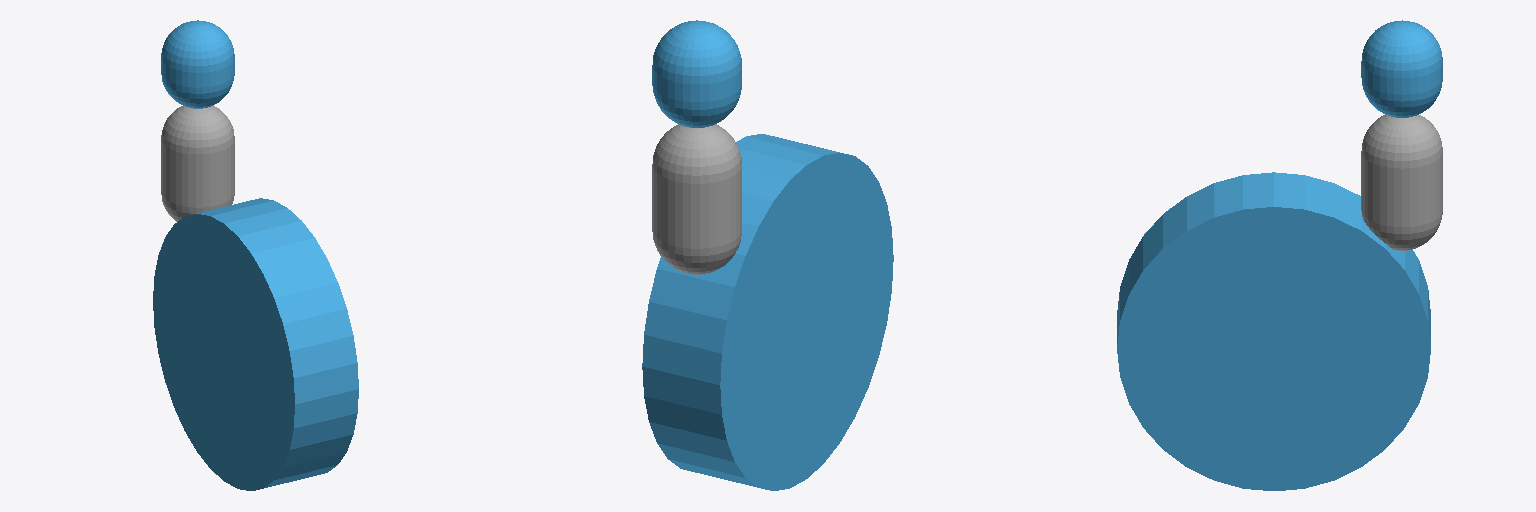
robot.urdf — DexterousHand:
<?xml version="1.0"?>
<robot name="DexterousHand">


    <link name="world"/>
    <joint name="world_to_palm" type="fixed">
        <parent link="world"/>
        <child link="palm"/>
        <origin xyz="0 0 0" rpy="0 0 0"/>
    </joint>
    <link name="palm">
        <inertial>
            <origin xyz="0 0 0.057" rpy="0 0 0"/>
            <mass value="0.30212892864"/>
            <inertia ixx="0.00049080844457568" ixy="0.0" ixz="0.0" iyy="0.00026746366246427523" iyz="0.0" izz="0.00026746366246427523"/>
        </inertial>
        <visual>
            <origin xyz="0 0 0.057" rpy="1.5708 0 1.5708"/>
            <geometry>
                <cylinder radius="0.057" length="0.0296"/>
            </geometry>
            <material name="default"/>
        </visual>
        <collision>
            <origin xyz="0 0 0.057" rpy="1.5708 0 1.5708"/>
            <geometry>
                <cylinder radius="0.057" length="0.0296"/>
            </geometry>
        </collision>
    </link>

    
    <joint name="thumb_joint1" type="revolute">
        <parent link="palm"/>
        <child link="thumb_base"/>
        <origin xyz="0.0 0.0 0.0" rpy="0.0 0.0 0.0"/>
        <axis xyz="1 0 0"/>
        <limit lower="0.0" upper="0.0" effort="1.0" velocity="1.0"/>
    </joint>

    <link name="thumb_base"></link>

    <joint name="thumb_joint2" type="revolute">
        <parent link="thumb_base"/>
        <child link="thumb_proximal"/>
        <origin xyz="0.0 0.0 0.0" rpy="0.0 0.0 0.0"/>
        <axis xyz="0 1 0"/>
        <limit lower="0.0" upper="0.0" effort="1.0" velocity="1.0"/>
    </joint>

    <link name="thumb_proximal">
    </link>

    <joint name="thumb_joint3" type="revolute">
        <parent link="thumb_proximal"/>
        <child link="thumb_knuckle"/>
        <origin xyz="0.0 0.0 0.0" rpy="0.0 0.0 0.0"/>
        <axis xyz="1 0 0"/>
        <limit lower="0.0" upper="0.0" effort="1.0" velocity="1.0"/>
    </joint>

    <link name="thumb_knuckle"></link>

    <joint name="thumb_joint4" type="revolute">
        <parent link="thumb_knuckle"/>
        <child link="thumb_middle"/>
        <origin xyz="0 0 0" rpy="0 0 0"/> 
        <axis xyz="0 1 0"/>
        <limit lower="0.0" upper="0.0" effort="1.0" velocity="1.0"/>
    </joint>

    <link name="thumb_middle">
    </link>

    <joint name="thumb_joint5" type="revolute">
        <parent link="thumb_middle"/>
        <child link="thumb_distal"/>
        <origin xyz="0 0 0" rpy="0 0 0"/> 
        <axis xyz="0 1 0"/>
        <limit lower="0.0" upper="0.0" effort="1.0" velocity="1.0"/>
    </joint>

    <link name="thumb_distal">
    </link>

    
    <joint name="index_joint1" type="revolute">
        <parent link="palm"/>
        <child link="index_proximal"/>
        <origin xyz="0.0 0.0465 0.091" rpy="0.0 0.0 0.0"/>
        <axis xyz="0 1 0"/>
        <limit lower="-0.314" upper="2.23" effort="1.0" velocity="1.0"/>
    </joint>

    <link name="index_proximal">
        <inertial>
            <origin xyz="0 0 0.02655" rpy="0 0 0"/>
            <mass value="0.036540024998400006"/>
            <inertia ixx="1.058665009272394e-05" ixy="0.0" ixz="0.0" 
            iyy="1.058665009272394e-05" iyz="0.0" izz="4.001863537824769e-06"/>
        </inertial>
        <visual>
            <origin xyz="0 0 0.02655" rpy="0 0 0"/>
            <geometry>
                <cylinder radius="0.0148" length="0.0235"/>
            </geometry>
            <material name="default"/>
        </visual>
        <visual>
            <origin xyz="0 0 0.0148" rpy="0 0 0"/>
            <geometry>
                <sphere radius="0.0148"/>
            </geometry>
            <material name="default"/>
        </visual>
        <visual>
            <origin xyz="0 0 0.0383" rpy="0 0 0"/>
            <geometry>
                <sphere radius="0.0148"/>
            </geometry>
            <material name="default"/>
        </visual>
        <collision>
            <origin xyz="0 0 0.02655" rpy="0 0 0"/>
            <geometry>
                <cylinder radius="0.0148" length="0.0235"/>
            </geometry>
        </collision>
        <collision>
            <origin xyz="0 0 0.0148" rpy="0 0 0"/>
            <geometry>
                <sphere radius="0.0148"/>
            </geometry>
        </collision>
        <collision>
            <origin xyz="0 0 0.0383" rpy="0 0 0"/>
            <geometry>
                <sphere radius="0.0148"/>
            </geometry>
        </collision>
    </link>

    <joint name="index_joint2" type="revolute">
        <parent link="index_proximal"/>
        <child link="index_dummy"/>
        <origin xyz="0.0 0.0 0.038" rpy="0.0 0.0 0.0"/>
        <axis xyz="1 0 0"/>
        <limit lower="-1.047" upper="1.047" effort="1.0" velocity="1.0"/>
    </joint>

    <link name="index_dummy"></link>

    <joint name="index_joint3" type="revolute">
        <parent link="index_dummy"/>
        <child link="index_middle"/>
        <origin xyz="0 0 0.015100000000000002" rpy="0 0 0"/>
        <axis xyz="0 1 0"/>
        <limit lower="-0.506" upper="1.885" effort="1.0" velocity="1.0"/>
    </joint>

    <link name="index_middle">
        <inertial>
            <origin xyz="0 0 0.01805" rpy="0 0 0"/>
            <mass value="0.0248417119104"/>
            <inertia ixx="4.058162759109537e-06" ixy="0.0" ixz="0.0" 
            iyy="4.058162759109537e-06" iyz="0.0" izz="2.7206642884270085e-06"/>
        </inertial>
        <visual>
            <origin xyz="0 0 0.01805" rpy="0 0 0"/>
            <geometry>
                <cylinder radius="0.0148" length="0.006499999999999999"/>
            </geometry>
            <material name="default"/>
        </visual>
        <visual>
            <origin xyz="0 0 0.0148" rpy="0 0 0"/>
            <geometry>
                <sphere radius="0.0148"/>
            </geometry>
            <material name="default"/>
        </visual>
        <visual>
            <origin xyz="0 0 0.0213" rpy="0 0 0"/>
            <geometry>
                <sphere radius="0.0148"/>
            </geometry>
            <material name="default"/>
        </visual>
        <collision>
            <origin xyz="0 0 0.01805" rpy="0 0 0"/>
            <geometry>
                <cylinder radius="0.0148" length="0.006499999999999999"/>
            </geometry>
        </collision>
        <collision>
            <origin xyz="0 0 0.0148" rpy="0 0 0"/>
            <geometry>
                <sphere radius="0.0148"/>
            </geometry>
        </collision>
        <collision>
            <origin xyz="0 0 0.0213" rpy="0 0 0"/>
            <geometry>
                <sphere radius="0.0148"/>
            </geometry>
        </collision>
    </link>

    <joint name="index_joint4" type="revolute">
        <parent link="index_middle"/>
        <child link="index_distal"/>
        <origin xyz="0 0 0.0361" rpy="0 0 0"/> 
        <axis xyz="0 1 0"/>
        <limit lower="0.0" upper="0.0" effort="1.0" velocity="1.0"/>
    </joint>

    <link name="index_distal">
    </link>

    
    <joint name="middle_joint1" type="revolute">
        <parent link="palm"/>
        <child link="middle_proximal"/>
        <origin xyz="0.0 0.0 0.0" rpy="0.0 0.0 0.0"/>
        <axis xyz="1 0 0"/>
        <limit lower="0.0" upper="0.0" effort="1.0" velocity="1.0"/>
    </joint>

    <link name="middle_proximal">
    </link>

    <joint name="middle_joint2" type="revolute">
        <parent link="middle_proximal"/>
        <child link="middle_dummy"/>
        <origin xyz="0.0 0.0 0.0" rpy="0.0 0.0 0.0"/>
        <axis xyz="0 1 0"/>
        <limit lower="0.0" upper="0.0" effort="1.0" velocity="1.0"/>
    </joint>

    <link name="middle_dummy"></link>

    <joint name="middle_joint3" type="revolute">
        <parent link="middle_dummy"/>
        <child link="middle_middle"/>
        <origin xyz="0 0 0" rpy="0 0 0"/>
        <axis xyz="0 1 0"/>
        <limit lower="0.0" upper="0.0" effort="1.0" velocity="1.0"/>
    </joint>

    <link name="middle_middle">
    </link>

    <joint name="middle_joint4" type="revolute">
        <parent link="middle_middle"/>
        <child link="middle_distal"/>
        <origin xyz="0 0 0" rpy="0 0 0"/> 
        <axis xyz="0 1 0"/>
        <limit lower="0.0" upper="0.0" effort="1.0" velocity="1.0"/>
    </joint>

    <link name="middle_distal">
    </link>

    
    <joint name="ring_joint1" type="revolute">
        <parent link="palm"/>
        <child link="ring_proximal"/>
        <origin xyz="0.0 0.0 0.0" rpy="0.0 0.0 0.0"/>
        <axis xyz="1 0 0"/>
        <limit lower="0.0" upper="0.0" effort="1.0" velocity="1.0"/>
    </joint>

    <link name="ring_proximal">
    </link>

    <joint name="ring_joint2" type="revolute">
        <parent link="ring_proximal"/>
        <child link="ring_dummy"/>
        <origin xyz="0.0 0.0 0.0" rpy="0.0 0.0 0.0"/>
        <axis xyz="0 1 0"/>
        <limit lower="0.0" upper="0.0" effort="1.0" velocity="1.0"/>
    </joint>

    <link name="ring_dummy"></link>

    <joint name="ring_joint3" type="revolute">
        <parent link="ring_dummy"/>
        <child link="ring_middle"/>
        <origin xyz="0 0 0" rpy="0 0 0"/>
        <axis xyz="0 1 0"/>
        <limit lower="0.0" upper="0.0" effort="1.0" velocity="1.0"/>
    </joint>

    <link name="ring_middle">
    </link>

    <joint name="ring_joint4" type="revolute">
        <parent link="ring_middle"/>
        <child link="ring_distal"/>
        <origin xyz="0 0 0" rpy="0 0 0"/> 
        <axis xyz="0 1 0"/>
        <limit lower="0.0" upper="0.0" effort="1.0" velocity="1.0"/>
    </joint>

    <link name="ring_distal">
    </link>

    
    <joint name="little_joint0" type="revolute">
        <parent link="palm"/>
        <child link="little_base"/>
        <origin xyz="0.0 0.0 0.0" rpy="0.0 0.0 0.0"/>
        <axis xyz="0 1 0"/>
        <limit lower="0.0" upper="0.0" effort="1.0" velocity="1.0"/>
    </joint>

    <link name="little_base"></link>

    <joint name="little_joint1" type="revolute">
        <parent link="little_base"/>
        <child link="little_proximal"/>
        <origin xyz="0.0 0.0 0.0" rpy="-0.0 -0.0 -0.0"/>
        <axis xyz="1 0 0"/>
        <limit lower="0.0" upper="0.0" effort="1.0" velocity="1.0"/>
    </joint>

    <link name="little_proximal">
    </link>

    <joint name="little_joint2" type="revolute">
        <parent link="little_proximal"/>
        <child link="little_dummy"/>
        <origin xyz="0.0 0.0 0.0" rpy="0.0 0.0 0.0"/>
        <axis xyz="0 1 0"/>
        <limit lower="0.0" upper="0.0" effort="1.0" velocity="1.0"/>
    </joint>

    <link name="little_dummy"></link>

    <joint name="little_joint3" type="revolute">
        <parent link="little_dummy"/>
        <child link="little_middle"/>
        <origin xyz="0 0 0" rpy="0 0 0"/>
        <axis xyz="0 1 0"/>
        <limit lower="0.0" upper="0.0" effort="1.0" velocity="1.0"/>
    </joint>

    <link name="little_middle">
    </link>

    <joint name="little_joint4" type="revolute">
        <parent link="little_middle"/>
        <child link="little_distal"/>
        <origin xyz="0 0 0" rpy="0 0 0"/>
        <axis xyz="0 1 0"/>
        <limit lower="0.0" upper="0.0" effort="1.0" velocity="1.0"/>
    </joint>

    <link name="little_distal">
    </link>

</robot>

--- Facts derived from the render (not from the file) ---
The picture shows the robot from 3 angles, left to right: view 1: azimuth 30°, elevation 25°; view 2: azimuth 150°, elevation 25°; view 3: azimuth 270°, elevation 25°; orthographic projection.
Robot: DexterousHand — 24 links, 23 joints (22 revolute, 1 fixed); root link world; default pose: every joint at zero.
Visible links, largest first — view 1: palm, index_proximal, index_middle; view 2: palm, index_proximal, index_middle; view 3: palm, index_proximal, index_middle.
Link boxes in pixels (x1=…): palm: x1=153, y1=198, x2=358, y2=490; index_proximal: x1=161, y1=105, x2=234, y2=221; index_middle: x1=161, y1=20, x2=234, y2=108; palm: x1=642, y1=134, x2=893, y2=490; index_proximal: x1=652, y1=124, x2=741, y2=274; index_middle: x1=652, y1=20, x2=741, y2=127; palm: x1=1117, y1=172, x2=1430, y2=490; index_proximal: x1=1361, y1=115, x2=1442, y2=250; index_middle: x1=1361, y1=20, x2=1442, y2=117.
Bounding box of the posed robot: 0.0296 × 0.1183 × 0.1802 m (x, y, z).
Geometry: primitives only (box / cylinder / sphere), no mesh files.
